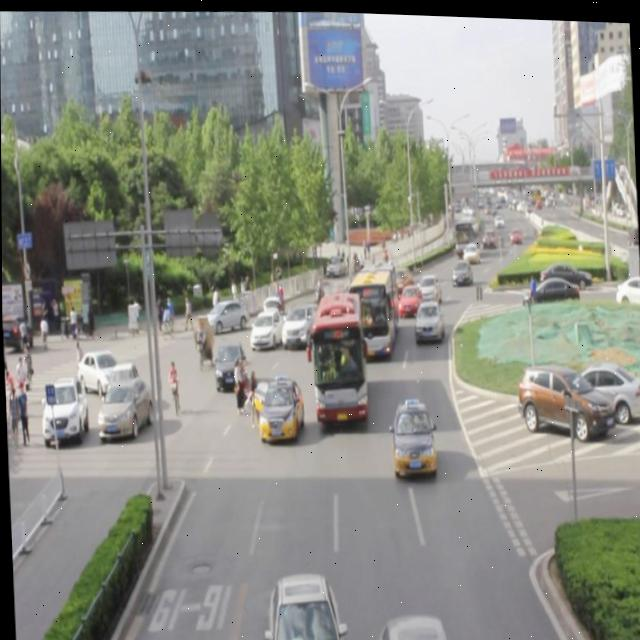car: (263, 568, 340, 640), (387, 394, 436, 478), (257, 373, 303, 441), (376, 609, 449, 640), (279, 300, 316, 348), (212, 338, 245, 390), (248, 304, 283, 350), (413, 296, 442, 340), (397, 279, 423, 316), (415, 269, 441, 305), (390, 262, 414, 294), (449, 255, 472, 285)
van: (311, 287, 364, 416), (348, 257, 394, 354)
